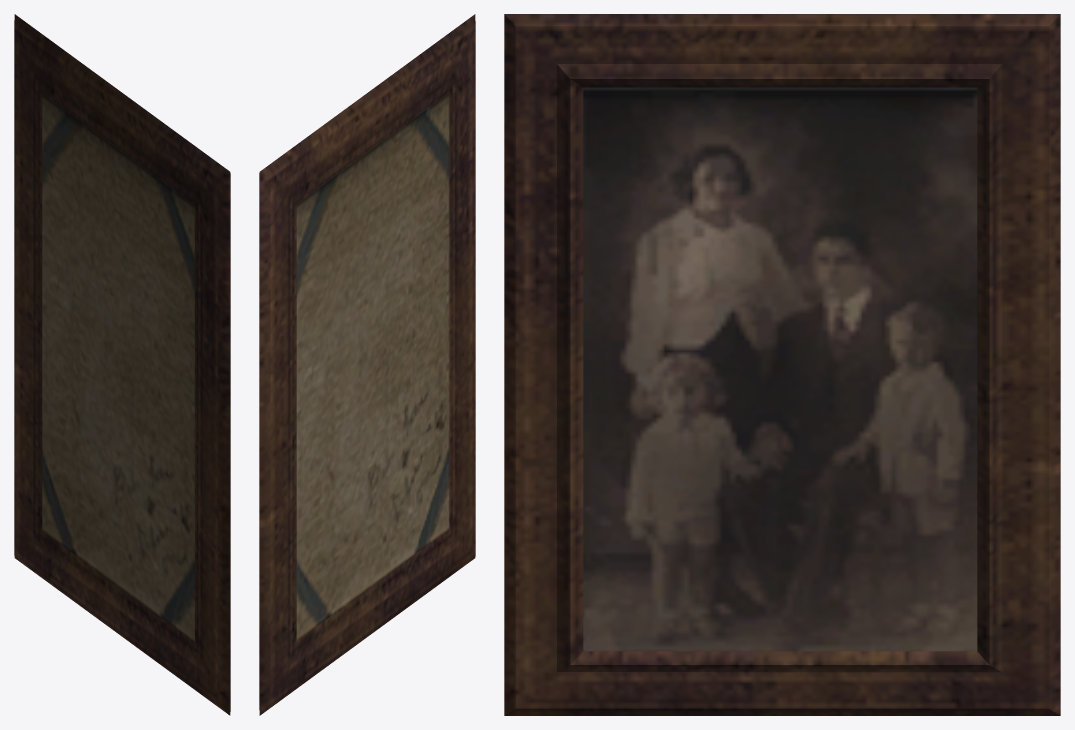
The model's file is picture_frame4.glb.
The picture shows the model from 3 angles, left to right: view 1: azimuth 30°, elevation 25°; view 2: azimuth 150°, elevation 25°; view 3: azimuth 270°, elevation 25°; orthographic projection. The views are drawn at different scales.
Visible parts, largest first — view 1: picture_frame4; view 2: picture_frame4; view 3: picture_frame4.
Boxes of the visible parts, x1,y1,x2,y2 form: picture_frame4: [14, 14, 230, 715]; picture_frame4: [259, 14, 475, 715]; picture_frame4: [504, 14, 1060, 715].
Bounding box in the file's own units: 0.0156 × 0.4989 × 0.3585.
Materials: 1 (1 with a texture image).
